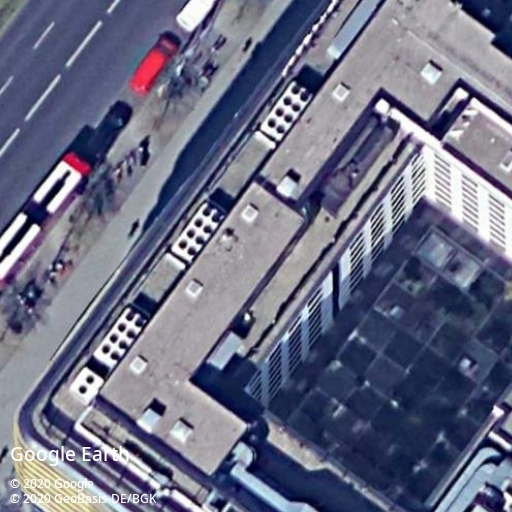Chiller: (169, 199, 226, 263), (92, 305, 149, 369), (260, 80, 313, 142), (67, 366, 104, 406)
